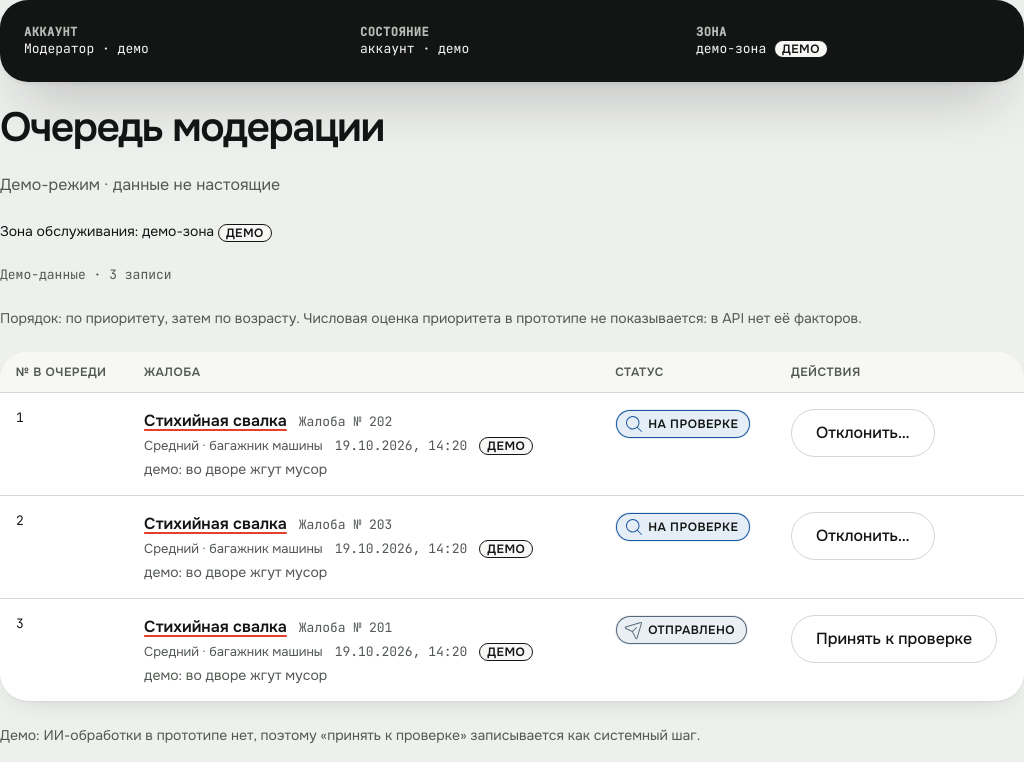
Test: S5 ModQueue › rejects with a reason from the list as the moderator persona
Click the button "Отклонить…" in the row of "Жалоба № 202": (863, 433) left=791, top=409, right=934, bottom=457
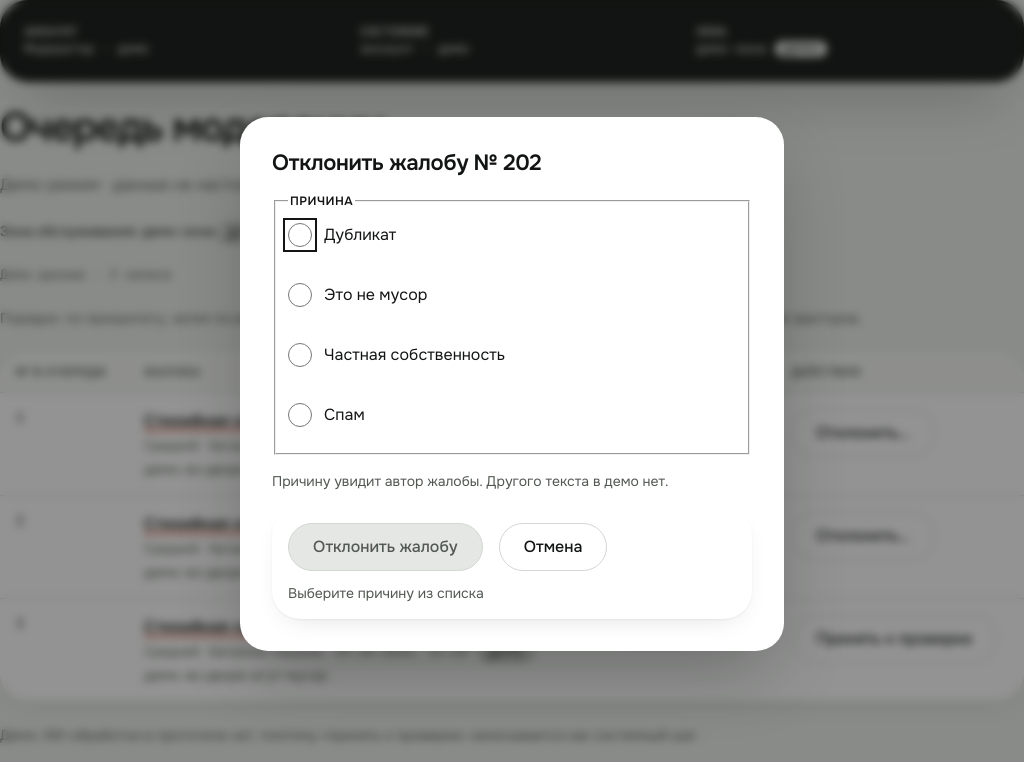
Click the radio button labelled "Это не мусор": (300, 295) left=288, top=283, right=312, bottom=307
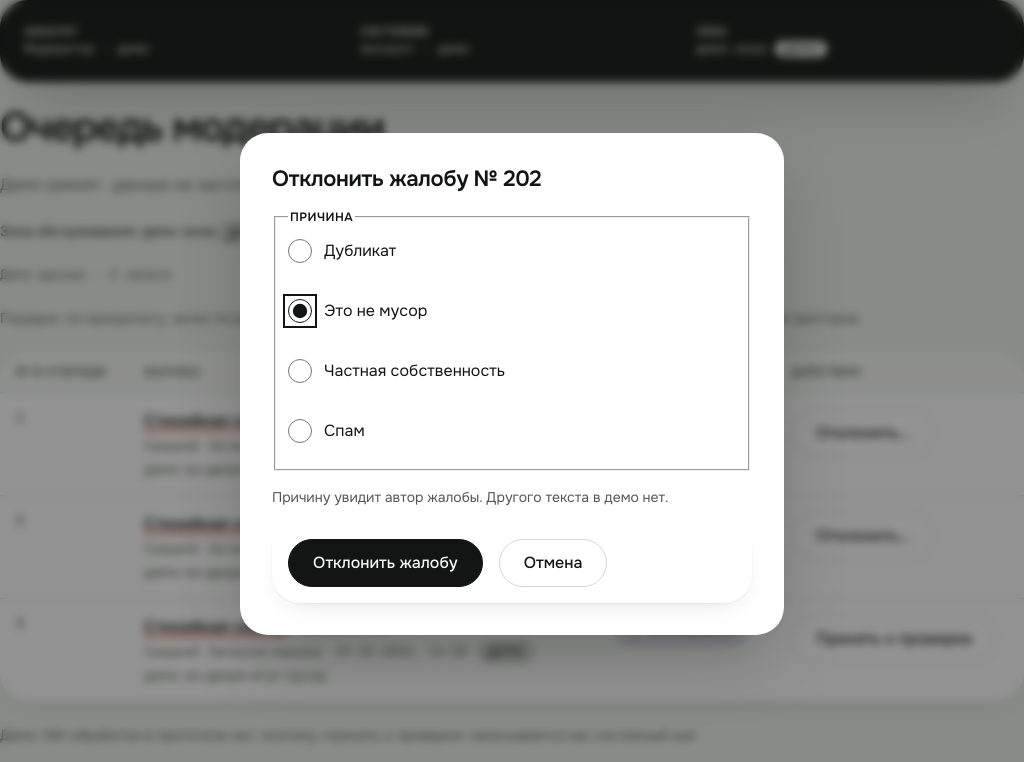
Click the button "Отклонить жалобу": (385, 563) left=288, top=539, right=483, bottom=587
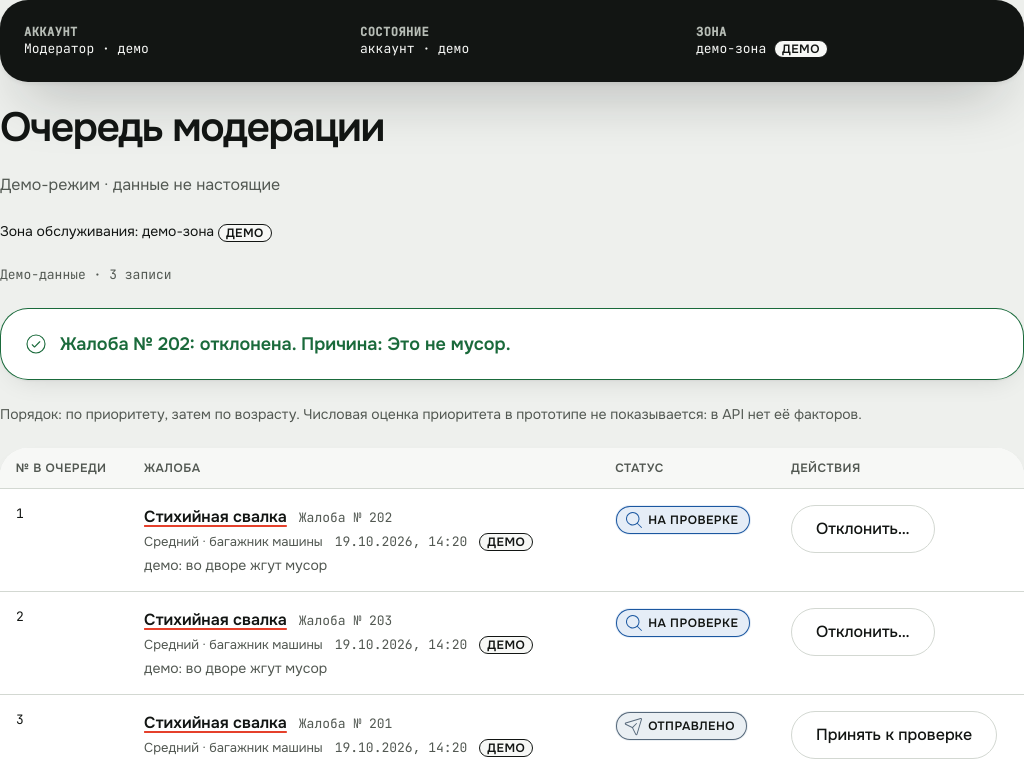
Now the text "Жалоба № 202: отклонена. Причина: Это не мусор." is shown, box left=60, top=332, right=510, bottom=356
